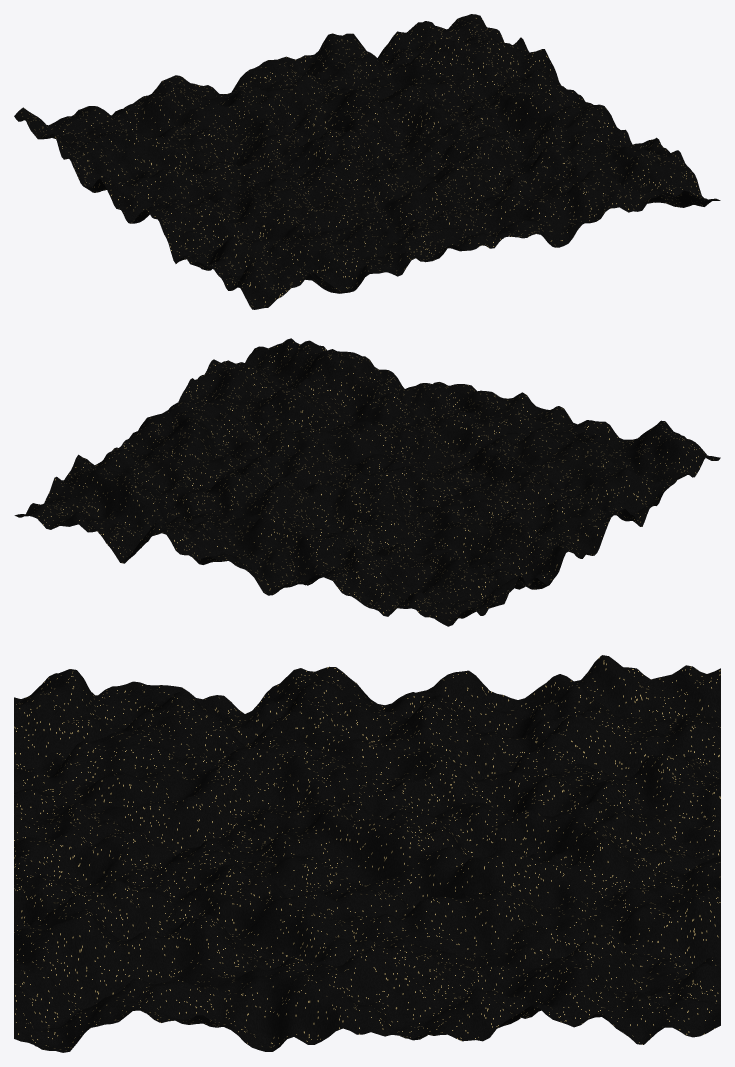
File: background_035.obj
The picture shows the model from 3 angles, top to bottom: view 1: azimuth 30°, elevation 25°; view 2: azimuth 150°, elevation 25°; view 3: azimuth 270°, elevation 25°; orthographic projection. The views are drawn at different scales.
Size of the model in its own units: 2.24 by 0.2328 by 2.
1 material, 1 textured.
